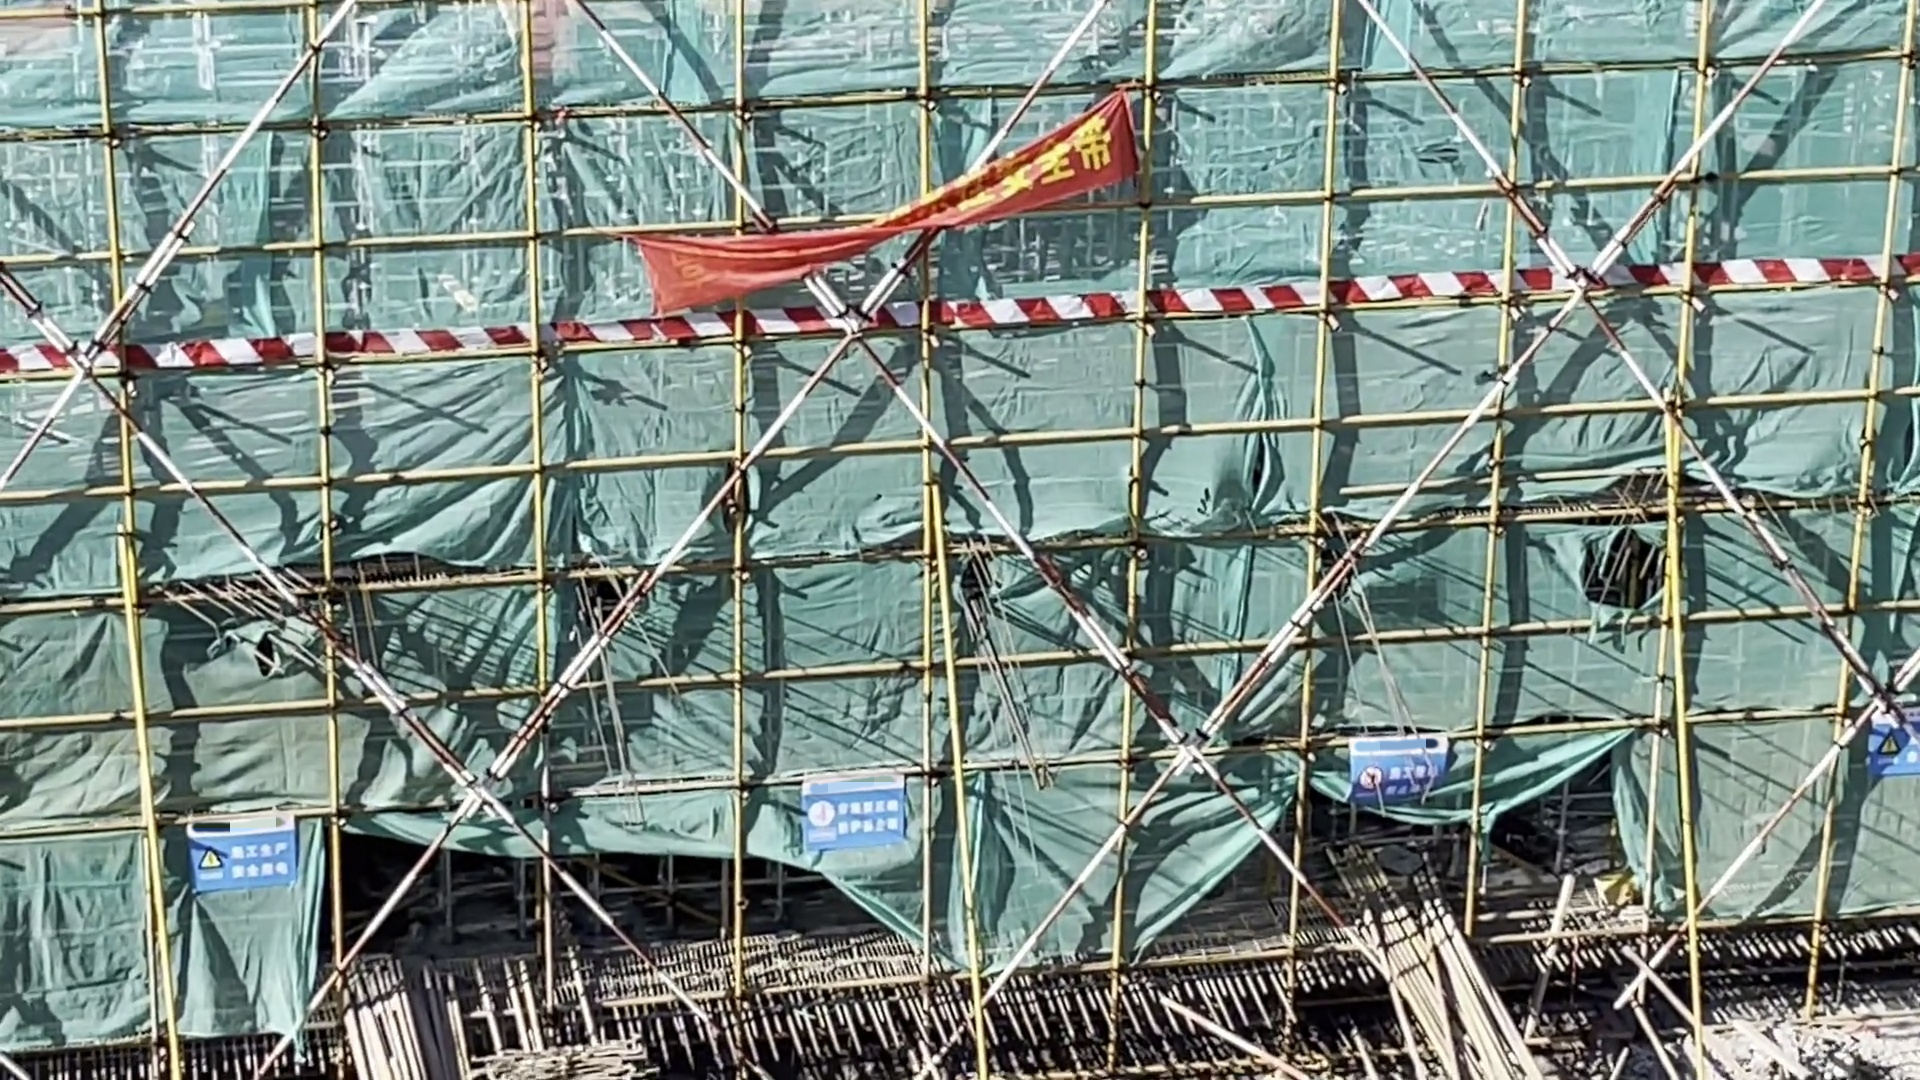slogan: (604, 83, 1138, 331), (149, 804, 301, 905), (1331, 715, 1455, 825), (795, 758, 916, 855), (1869, 691, 1920, 771)
